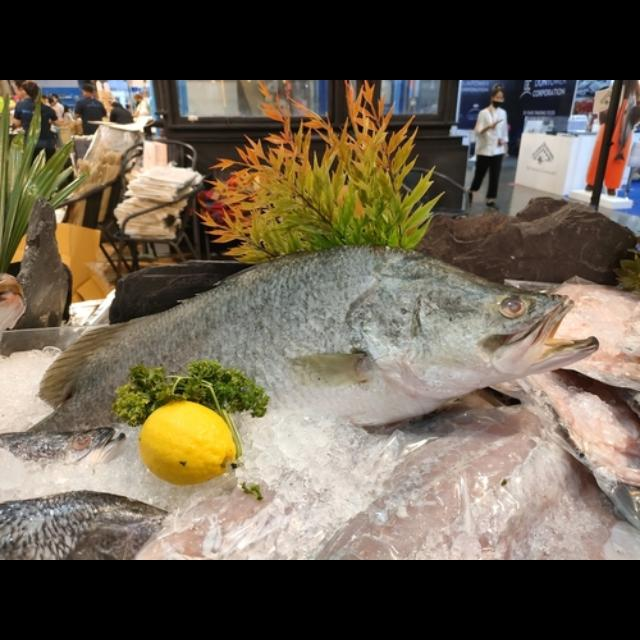Seabass: (17, 243, 600, 433)
